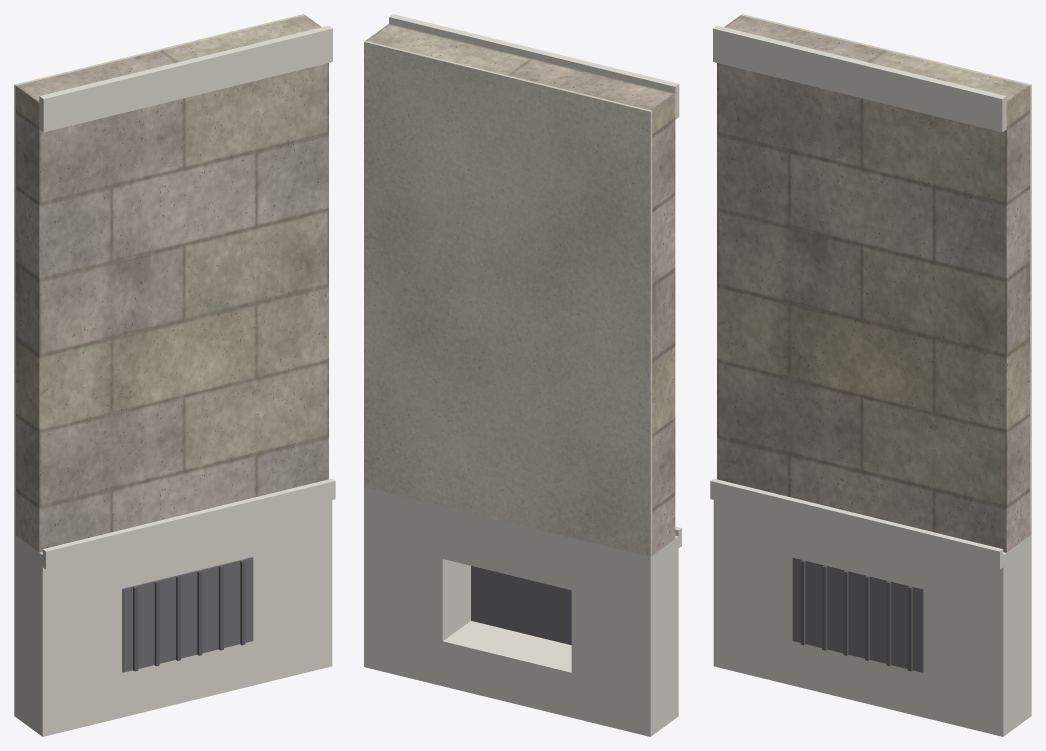
File: wall_b0_plain.glb
3 renders of one model, left to right at view 1: azimuth 30°, elevation 25°; view 2: azimuth 150°, elevation 25°; view 3: azimuth 330°, elevation 25°, orthographic.
Visible parts, largest first — view 1: wall_b0_plain_grey, wall_b0_plain_lime, wall_b0_plain_dark, wall_b0_plain_iron, wall_b0_plain_plaster; view 2: wall_b0_plain_plaster, wall_b0_plain_lime, wall_b0_plain_grey, wall_b0_plain_dark; view 3: wall_b0_plain_grey, wall_b0_plain_lime, wall_b0_plain_dark, wall_b0_plain_iron, wall_b0_plain_plaster.
Boxes of the visible parts, x1,y1,x2,y2 form: wall_b0_plain_grey: (16, 15, 328, 552); wall_b0_plain_lime: (14, 25, 335, 736); wall_b0_plain_dark: (122, 557, 253, 672); wall_b0_plain_iron: (133, 560, 245, 671); wall_b0_plain_plaster: (14, 14, 304, 535); wall_b0_plain_plaster: (364, 41, 652, 556); wall_b0_plain_lime: (364, 14, 681, 736); wall_b0_plain_grey: (366, 24, 675, 555); wall_b0_plain_dark: (471, 566, 571, 645); wall_b0_plain_grey: (717, 15, 1029, 552); wall_b0_plain_lime: (710, 25, 1031, 736); wall_b0_plain_dark: (792, 557, 923, 672); wall_b0_plain_iron: (800, 560, 912, 671); wall_b0_plain_plaster: (741, 14, 1031, 535).
Size of the model in its own units: 2 by 4.22 by 0.38.
5 materials, 2 textured.
